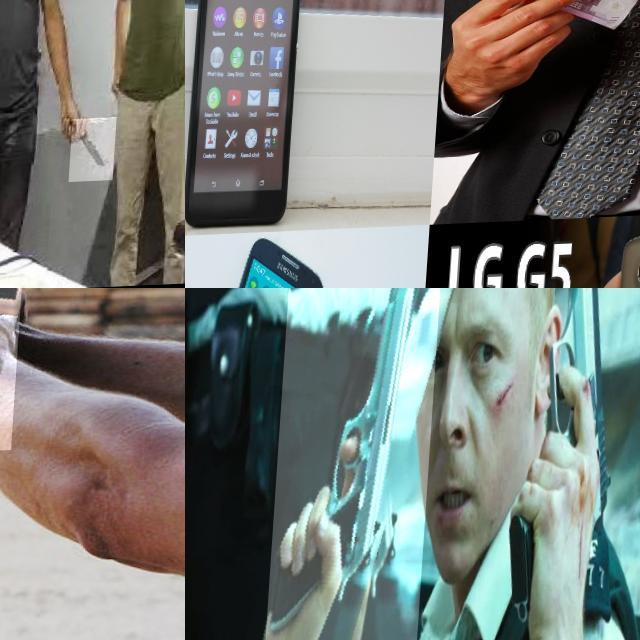-: (76, 121, 123, 185)
gun-knife-thesis - v11 Yolov5 augmented: (271, 288, 445, 640), (503, 288, 638, 628), (0, 288, 148, 462)
